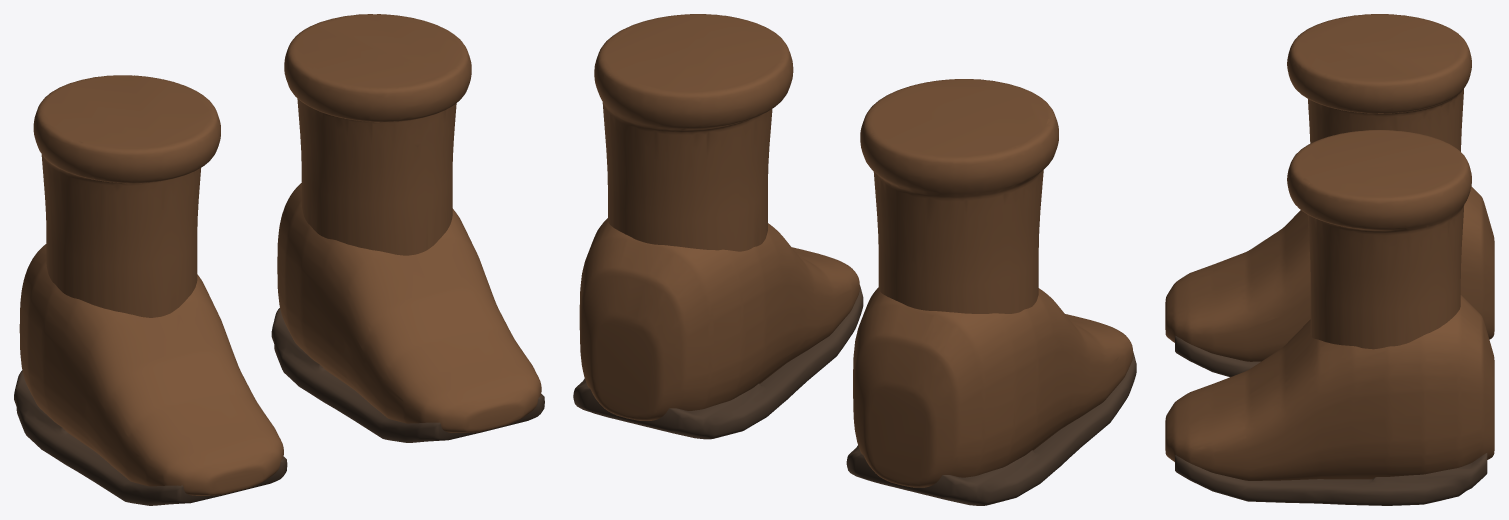
The model's file is boot_candidate_v001.glb.
3 views of the same model, side by side, from view 1: azimuth 30°, elevation 25°; view 2: azimuth 150°, elevation 25°; view 3: azimuth 270°, elevation 25° (orthographic). The views are drawn at different scales.
Visible parts, largest first — view 1: SCULPT_BOOT_FOOT_L, SCULPT_BOOT_FOOT_R, SCULPT_BOOT_SHAFT_L, SCULPT_BOOT_SHAFT_R; view 2: SCULPT_BOOT_FOOT_L, SCULPT_BOOT_FOOT_R, SCULPT_BOOT_SHAFT_R, SCULPT_BOOT_SHAFT_L; view 3: SCULPT_BOOT_FOOT_R, SCULPT_BOOT_SHAFT_R, SCULPT_BOOT_SHAFT_L, SCULPT_BOOT_FOOT_L.
Part boxes in pixels (x1=…): SCULPT_BOOT_FOOT_L: x1=14, y1=244, x2=287, y2=505; SCULPT_BOOT_FOOT_R: x1=271, y1=183, x2=544, y2=442; SCULPT_BOOT_SHAFT_L: x1=33, y1=75, x2=220, y2=317; SCULPT_BOOT_SHAFT_R: x1=284, y1=14, x2=471, y2=255; SCULPT_BOOT_FOOT_L: x1=846, y1=287, x2=1136, y2=505; SCULPT_BOOT_FOOT_R: x1=573, y1=218, x2=863, y2=439; SCULPT_BOOT_SHAFT_R: x1=594, y1=14, x2=793, y2=251; SCULPT_BOOT_SHAFT_L: x1=860, y1=79, x2=1058, y2=313; SCULPT_BOOT_FOOT_R: x1=1165, y1=295, x2=1494, y2=505; SCULPT_BOOT_SHAFT_R: x1=1287, y1=130, x2=1471, y2=349; SCULPT_BOOT_SHAFT_L: x1=1287, y1=14, x2=1471, y2=151; SCULPT_BOOT_FOOT_L: x1=1165, y1=186, x2=1494, y2=377.
Bounding box in the file's own units: 0.3877 × 0.29 × 0.28.
